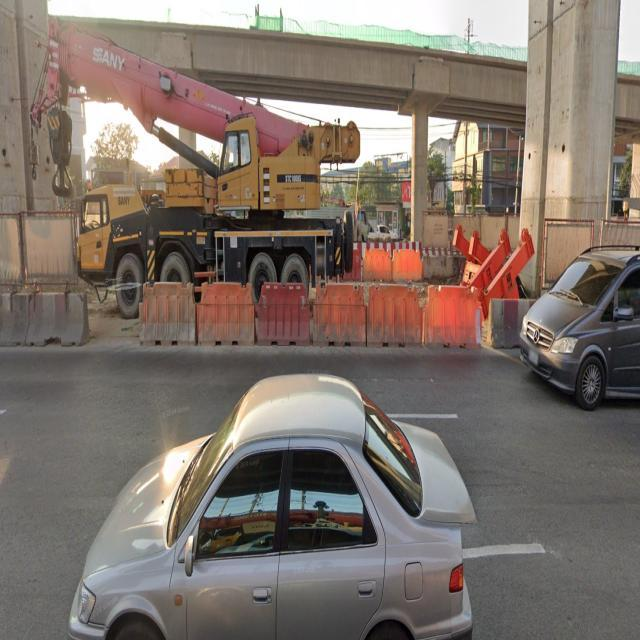fallen_object: (399, 273, 555, 357), (290, 273, 413, 354), (0, 287, 110, 362), (182, 275, 267, 361), (123, 267, 204, 357), (249, 276, 320, 359)
